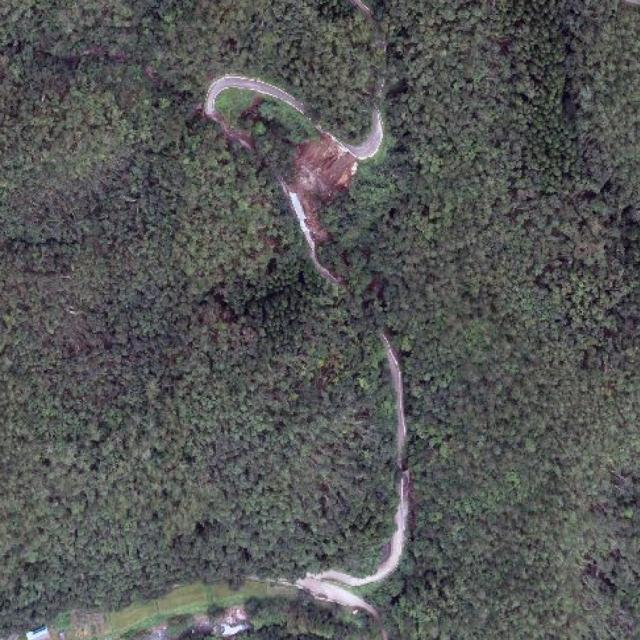landslide: (290, 132, 358, 240)
